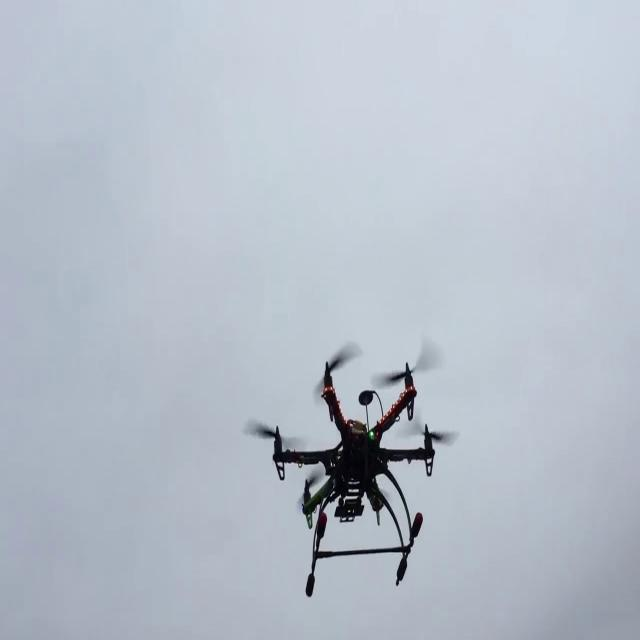drone: (238, 344, 457, 605)
